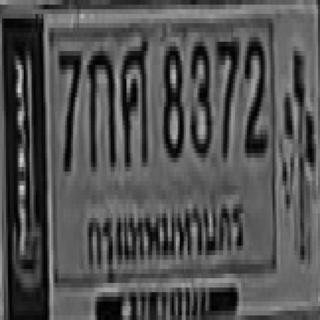A01: (87, 46, 115, 167)
A38: (119, 33, 147, 162)
N02: (243, 32, 265, 153)
N03: (189, 37, 210, 153)
N07: (57, 46, 79, 167), (215, 35, 237, 155)
N08: (162, 40, 182, 156)
P04: (83, 195, 250, 272)
